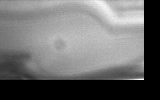cell: (51, 36, 68, 52)
